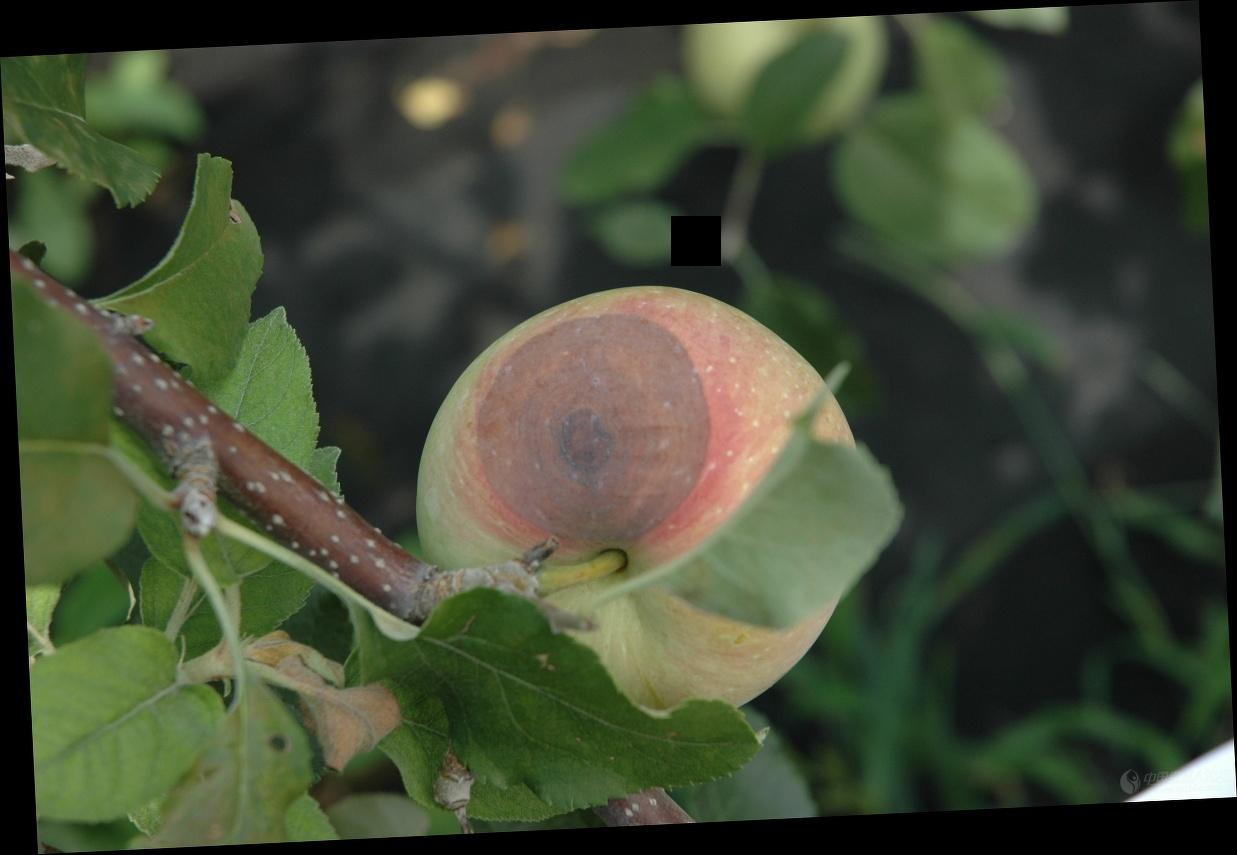rotten apple: (412, 282, 864, 730)
